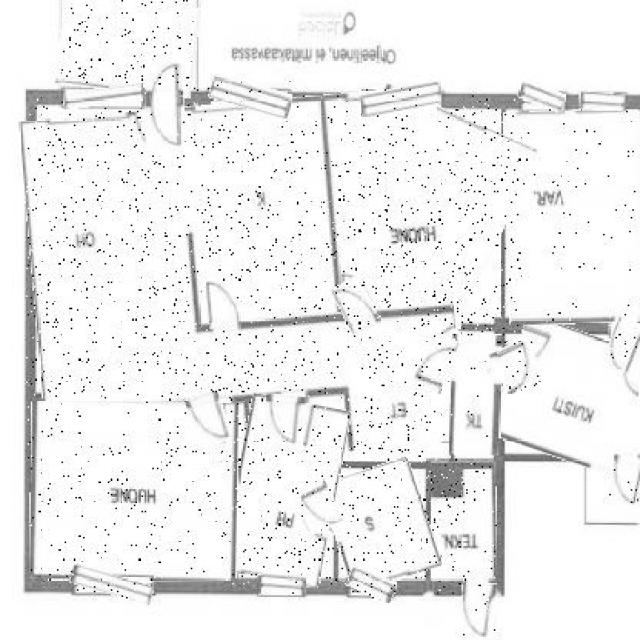door: (145, 61, 183, 157), (492, 340, 542, 391), (263, 394, 306, 452), (416, 335, 456, 394), (458, 580, 496, 640), (295, 482, 340, 532), (337, 278, 377, 334), (189, 392, 229, 446), (604, 318, 640, 372), (606, 455, 640, 508), (206, 280, 234, 329)
window: (208, 80, 292, 114), (71, 569, 154, 600), (360, 86, 442, 114), (63, 86, 145, 108), (346, 569, 397, 600), (518, 85, 564, 109), (257, 576, 306, 596), (579, 92, 626, 110)
zone: (26, 95, 459, 468), (317, 95, 518, 337), (31, 400, 237, 582), (504, 109, 640, 323), (228, 396, 343, 584), (495, 323, 640, 466), (329, 462, 434, 588), (58, 0, 198, 94), (432, 463, 497, 595), (449, 336, 502, 456)
